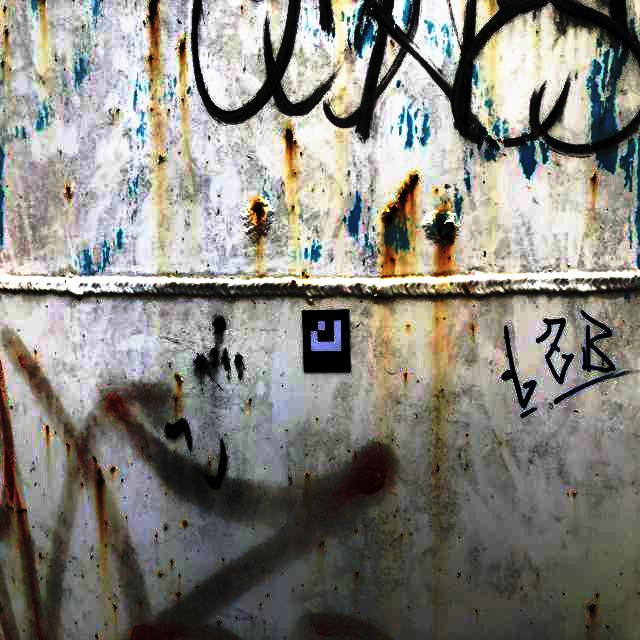Corrosion: (241, 196, 273, 244), (421, 208, 460, 246), (397, 172, 420, 204), (382, 202, 400, 229), (148, 0, 159, 24), (96, 468, 104, 489), (175, 373, 184, 387), (64, 186, 73, 200), (285, 128, 293, 141), (179, 38, 185, 54), (589, 603, 596, 615), (158, 153, 165, 164), (464, 284, 470, 294), (6, 504, 14, 511), (16, 509, 27, 514), (165, 472, 171, 480), (149, 55, 154, 62), (592, 173, 596, 181), (291, 280, 296, 286), (319, 541, 324, 547), (111, 466, 116, 472), (176, 592, 181, 598), (217, 620, 222, 625), (390, 257, 395, 262), (204, 469, 209, 474), (174, 395, 178, 401), (113, 604, 117, 610), (3, 6, 7, 12), (5, 29, 8, 37), (436, 465, 439, 472), (46, 425, 49, 432), (93, 457, 97, 462), (159, 572, 163, 577), (184, 521, 187, 527), (39, 553, 42, 559), (293, 140, 297, 144), (306, 473, 310, 477), (355, 571, 358, 576), (355, 528, 358, 533), (208, 460, 211, 465), (90, 554, 93, 559), (95, 634, 98, 639), (34, 349, 37, 354), (217, 210, 220, 214), (354, 453, 356, 459), (168, 363, 171, 367), (66, 443, 69, 447), (302, 271, 304, 276), (596, 593, 598, 598), (306, 275, 309, 278), (249, 399, 252, 402), (573, 492, 576, 495), (586, 625, 589, 628), (181, 98, 184, 101), (196, 585, 199, 588), (405, 373, 407, 377), (117, 109, 119, 113), (155, 534, 157, 538), (140, 601, 142, 605), (105, 521, 107, 525), (218, 194, 220, 197), (300, 152, 302, 155), (401, 533, 403, 536), (378, 443, 381, 445), (168, 109, 170, 112), (175, 283, 177, 286), (141, 447, 144, 449), (121, 479, 123, 482), (165, 526, 167, 529), (171, 560, 173, 563), (203, 630, 205, 633), (81, 483, 83, 486), (316, 418, 318, 420), (296, 523, 298, 525), (448, 257, 450, 259), (121, 556, 123, 558), (195, 611, 197, 613), (241, 6, 242, 9), (607, 625, 608, 628), (151, 108, 152, 111), (179, 574, 180, 577), (222, 559, 224, 560), (260, 603, 261, 605), (251, 617, 252, 619), (55, 432, 56, 434)
